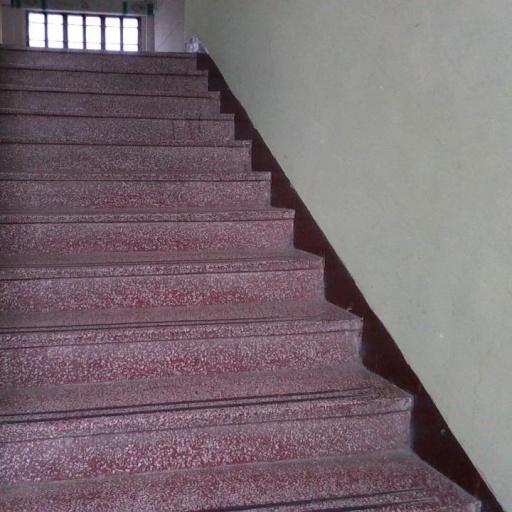stairs: (0, 48, 478, 511)
